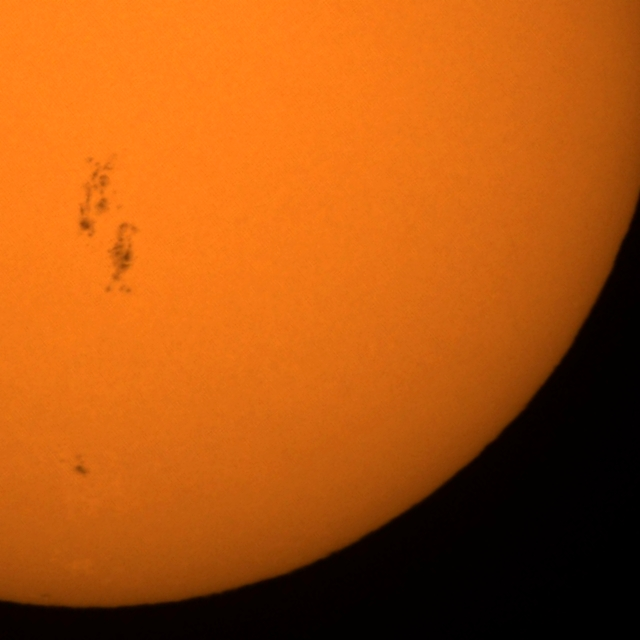sunspot: (75, 190, 134, 244), (76, 167, 127, 226), (106, 219, 141, 270), (102, 250, 137, 298), (84, 153, 119, 198), (72, 459, 91, 479)
